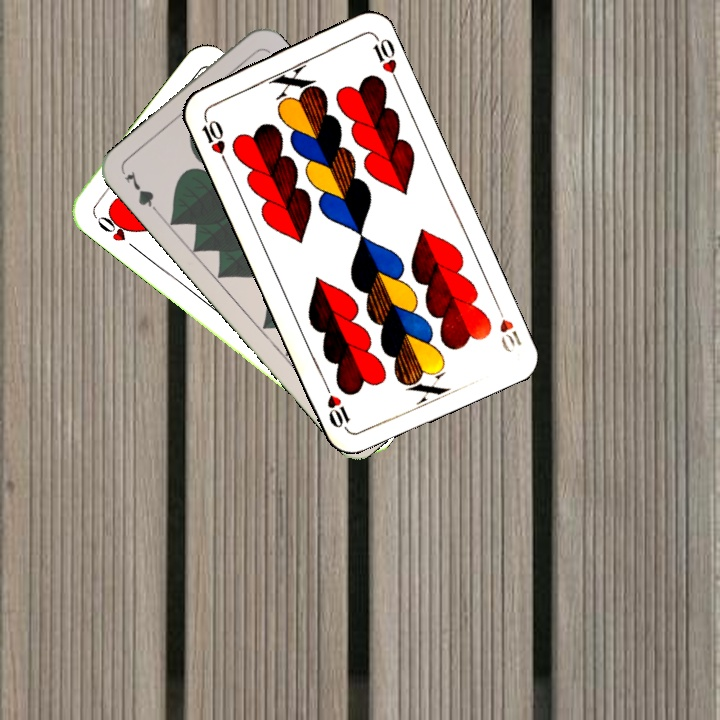G7: (120, 166, 164, 219)
H10: (197, 110, 230, 166), (491, 298, 525, 349)
HO: (91, 208, 141, 254)
